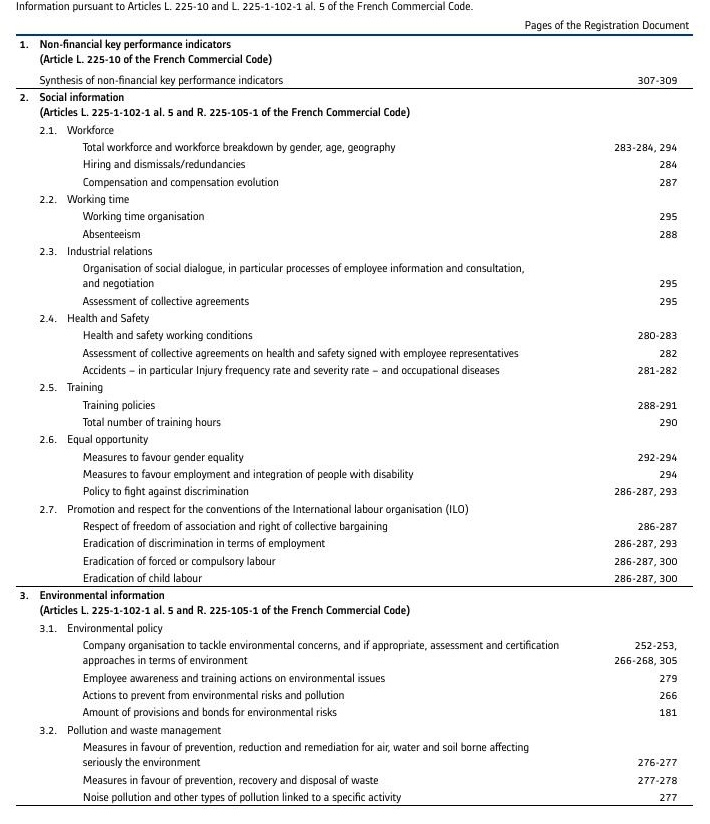table: (0, 0, 710, 824)
